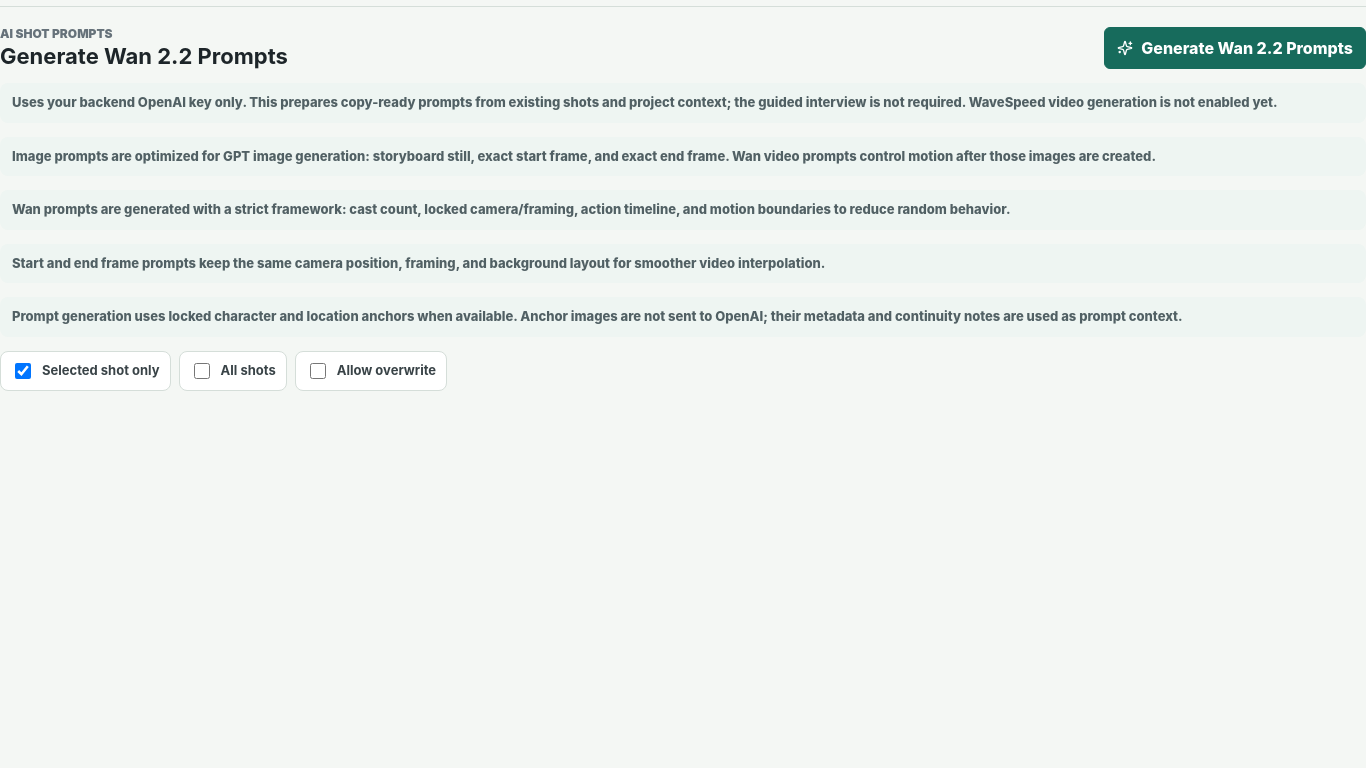
AIShotPromptPanel › renders preview prompt packages
Click the button "Generate Wan 2.2 Prompts" at (1235, 48), box [1104,27,1365,69]
(page scrolled)
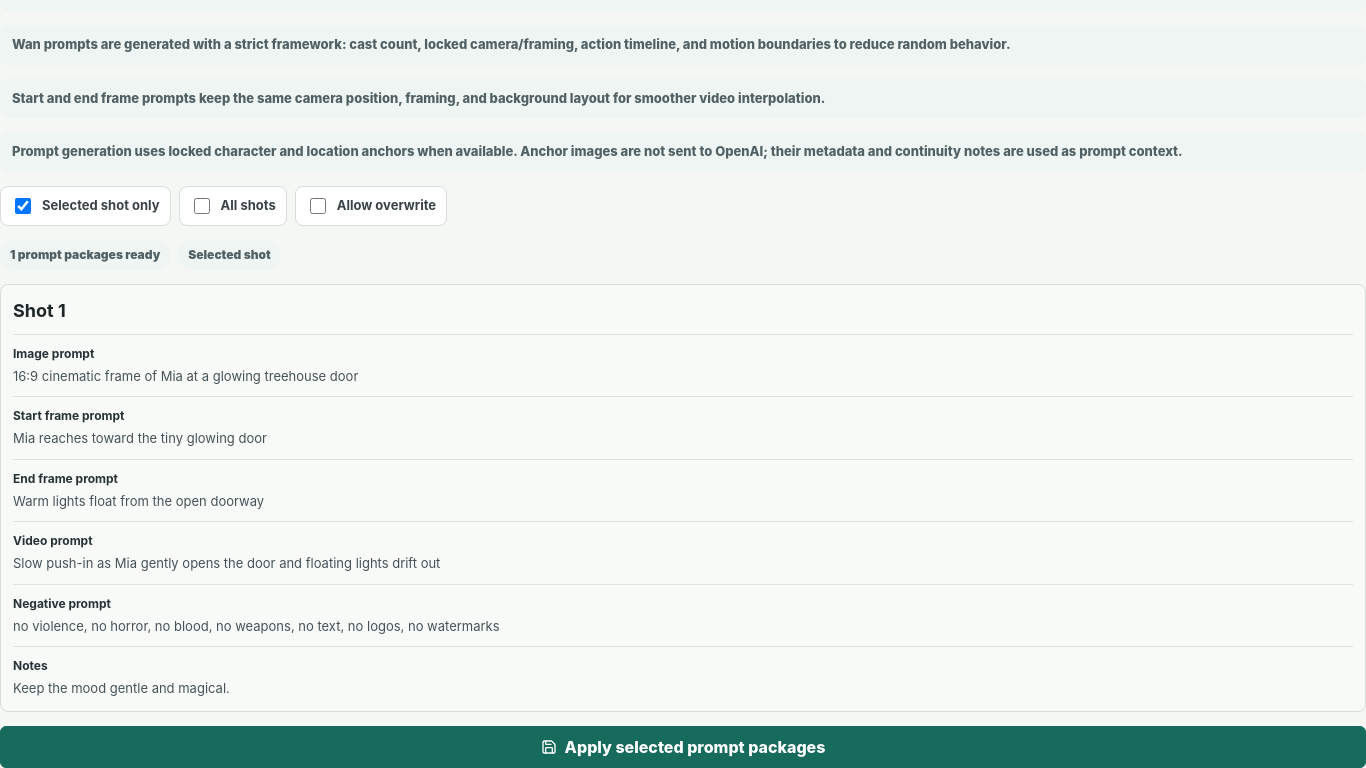
Now the heading "Shot 1" is shown, box [13,300,66,321]
Now the text "16:9 cinematic frame of Mia at a glowing treehouse door" is shown, box [13,368,358,384]
Now the text "no violence, no horror, no blood, no weapons, no text, no logos, no watermarks" is shown, box [13,618,500,634]
